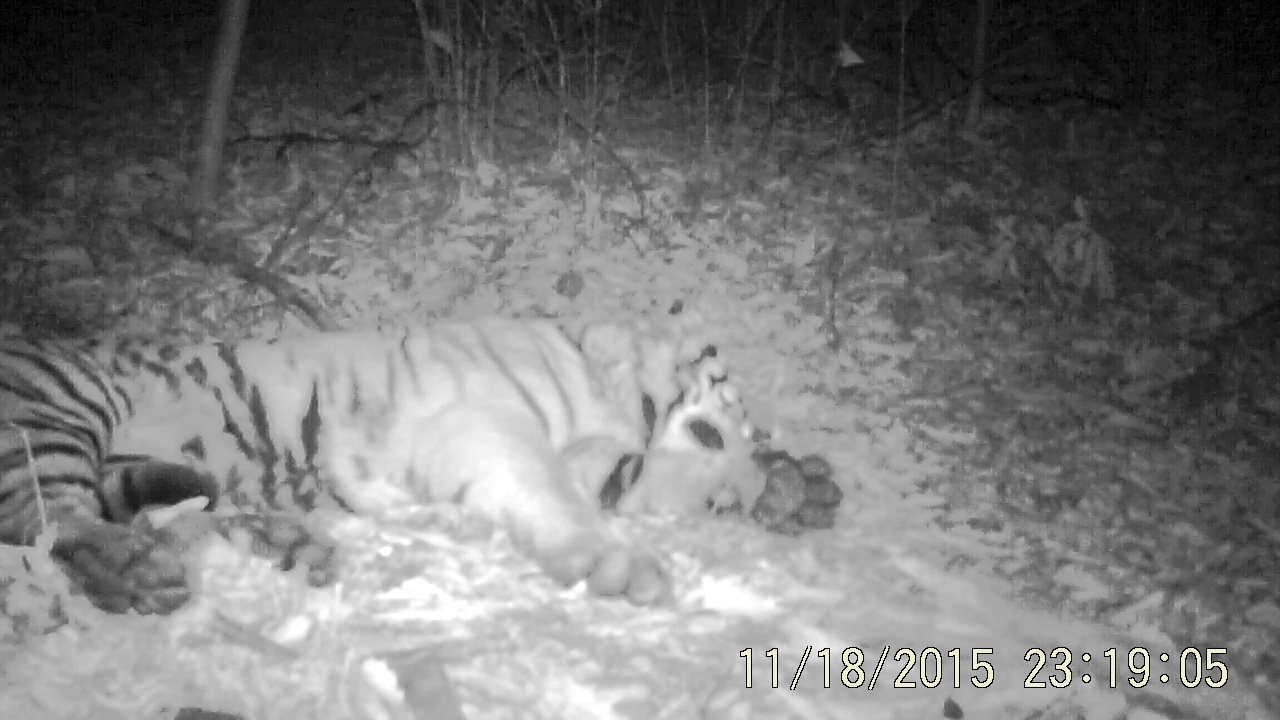Tiger: (1, 135, 944, 622)
